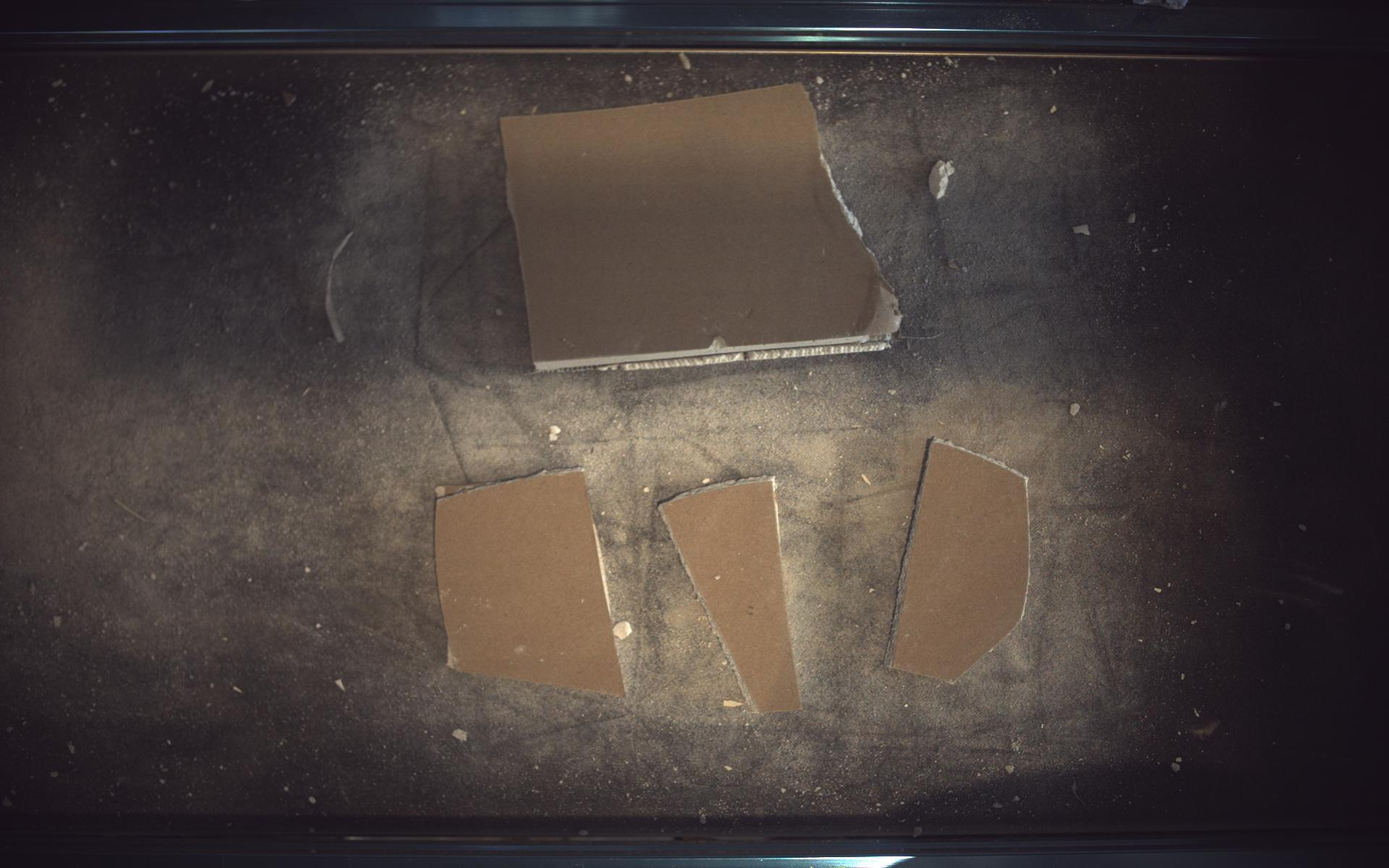gypsum_board: (502, 82, 903, 371), (435, 468, 626, 698), (888, 438, 1032, 682), (660, 477, 802, 714)
